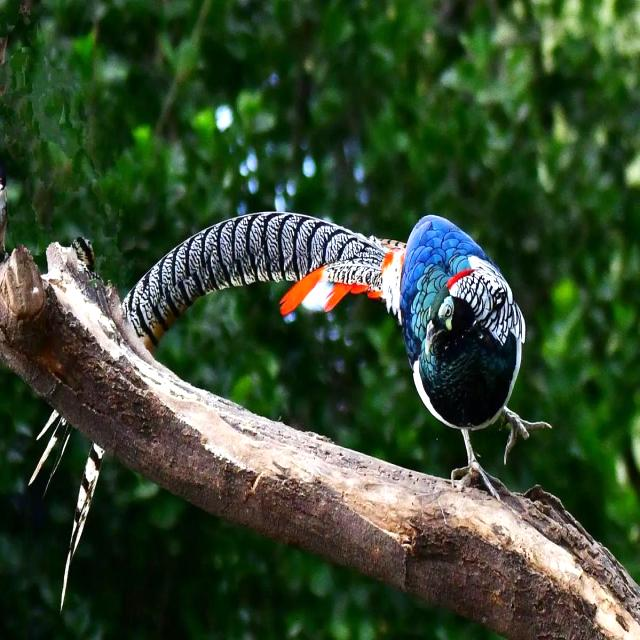Chrysolophus amherstiae: (123, 212, 385, 350)
